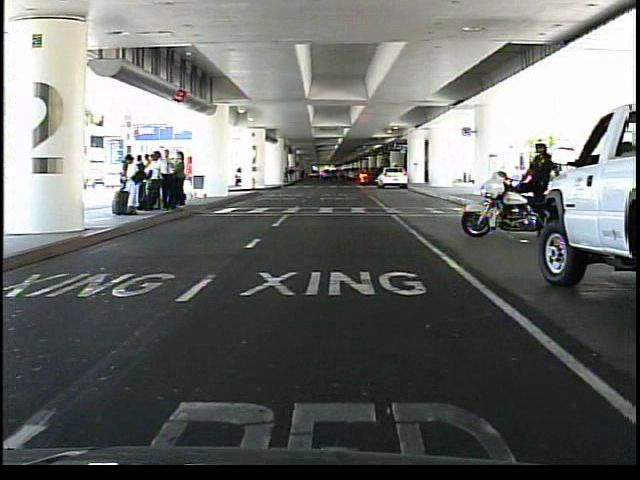person: (519, 132, 561, 242)
